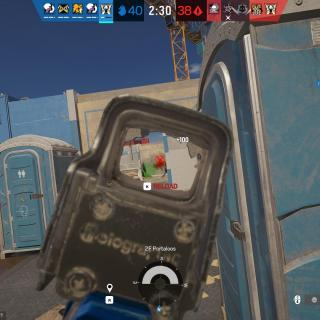Character: (161, 160, 168, 179)
Friend_label: (100, 182, 119, 193), (15, 197, 30, 208)
